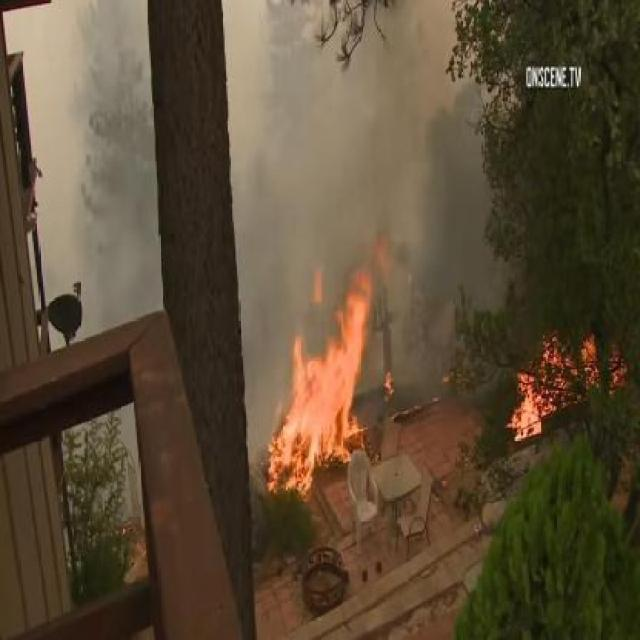Fire: (265, 258, 383, 508), (508, 369, 550, 440), (546, 336, 576, 410), (608, 346, 630, 394), (585, 336, 600, 396), (384, 367, 392, 393)
